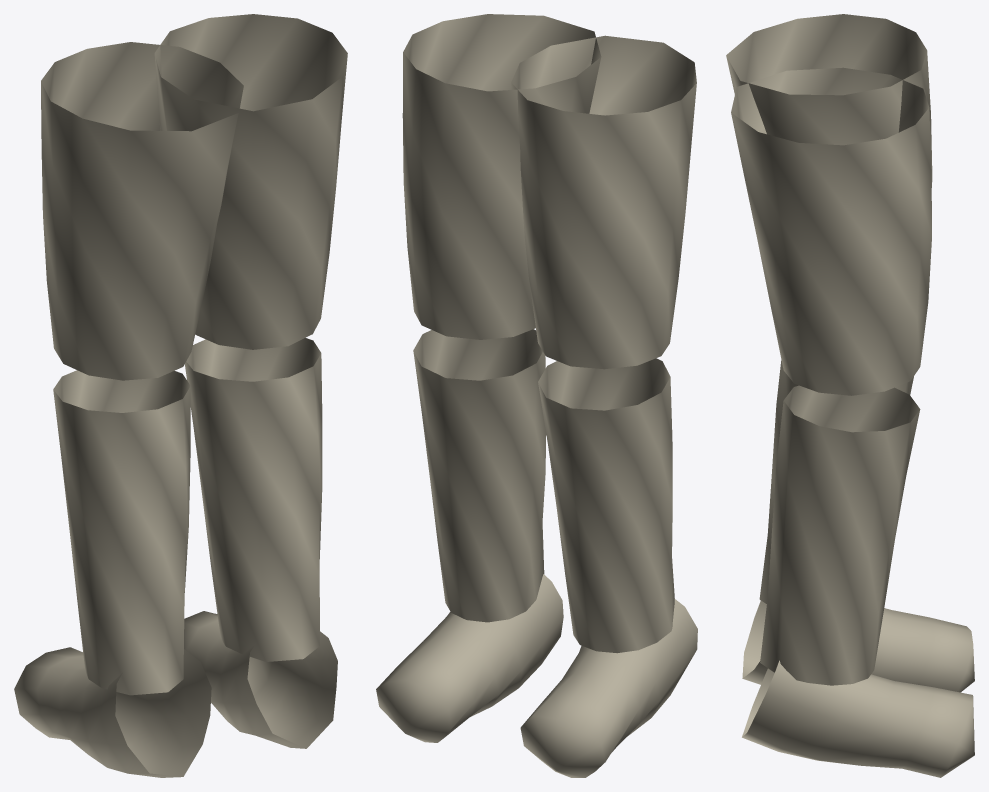
Rendered from necro_greaves.glb.
3 renders of one model, left to right at view 1: azimuth 30°, elevation 25°; view 2: azimuth 150°, elevation 25°; view 3: azimuth 270°, elevation 25°, orthographic. The views are drawn at different scales.
Parts seen in each view (by area): view 1: necro_greaves_cuisse.L; view 2: necro_greaves_cuisse.L; view 3: necro_greaves_cuisse.L.
Boxes of the visible parts, x1=… form: necro_greaves_cuisse.L: x1=14, y1=14, x2=347, y2=777; necro_greaves_cuisse.L: x1=376, y1=14, x2=697, y2=777; necro_greaves_cuisse.L: x1=726, y1=14, x2=974, y2=777.
Bounding box in the file's own units: 0.4048 × 0.9485 × 0.324.
